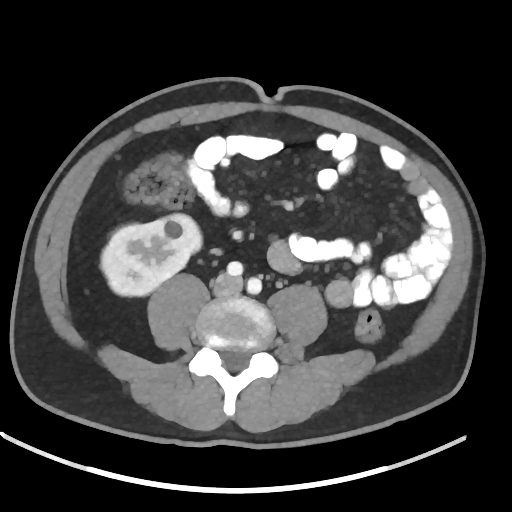Lesion: (160, 213, 186, 241)
